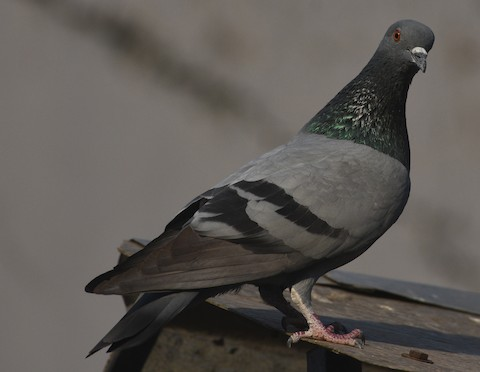pigeon: (69, 17, 439, 368)
